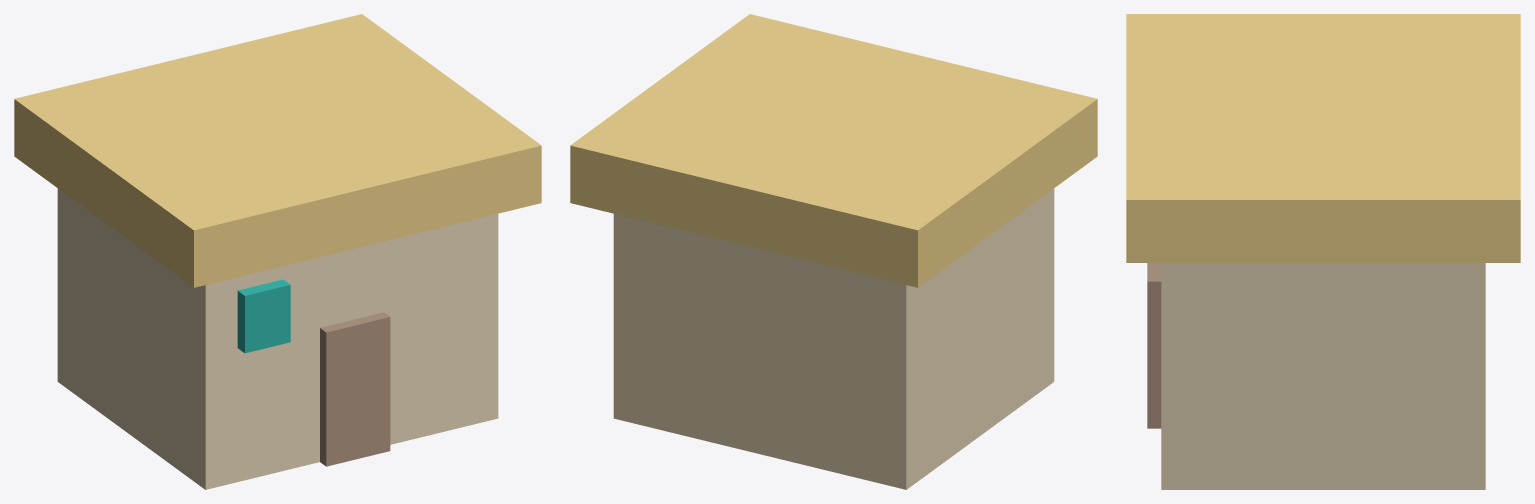
Rendered from market.gltf.
The picture shows the model from 3 angles, left to right: view 1: azimuth 30°, elevation 25°; view 2: azimuth 150°, elevation 25°; view 3: azimuth 270°, elevation 25°; orthographic projection. The views are drawn at different scales.
Bounding box in the file's own units: 1.9 × 1.45 × 1.7.
